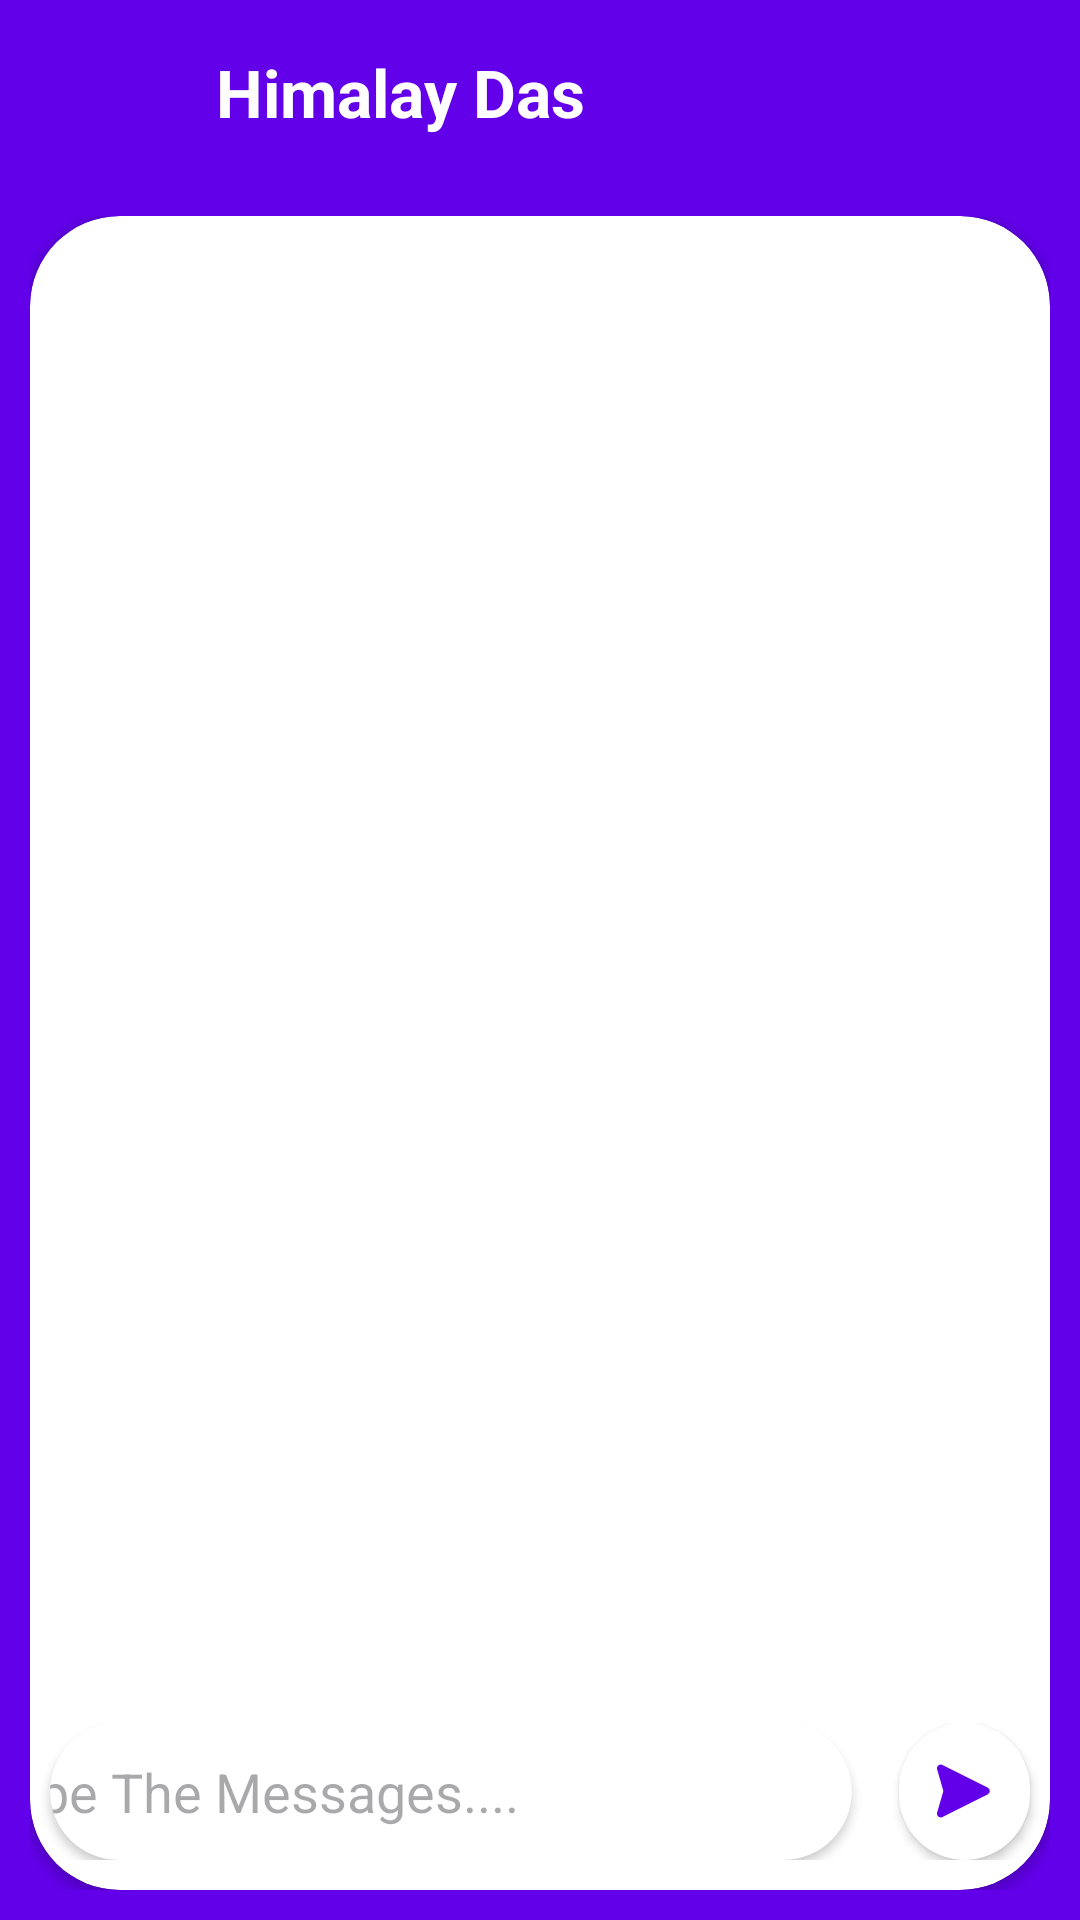

Named icons in this screenshot (1080w x 1920h) and their centers, [x,y]:
kirim send web: [963,1791]
